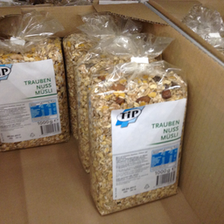cereal: (90, 59, 185, 217), (1, 31, 66, 156)
